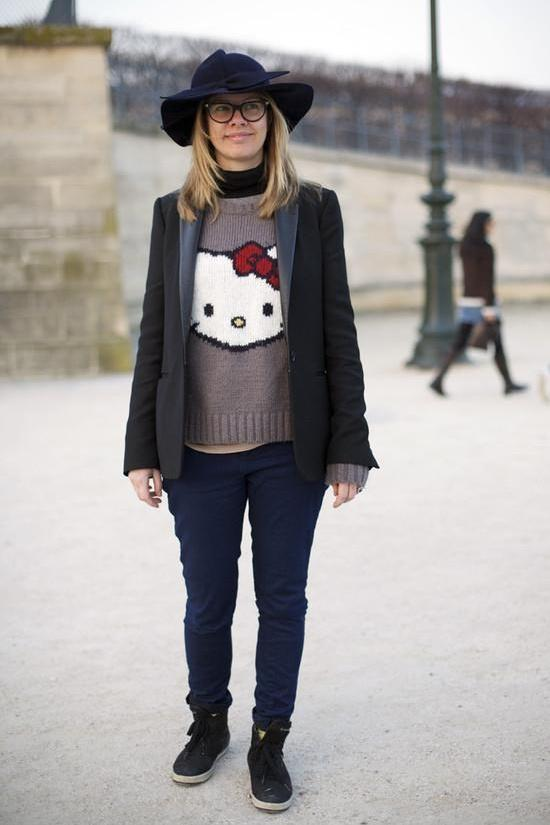pants: (162, 448, 330, 726)
sweater: (122, 185, 378, 491)
